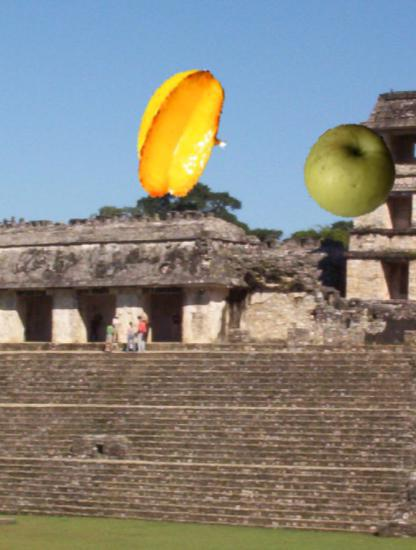Apple: (303, 125, 399, 221)
Carambula: (114, 66, 253, 205)
